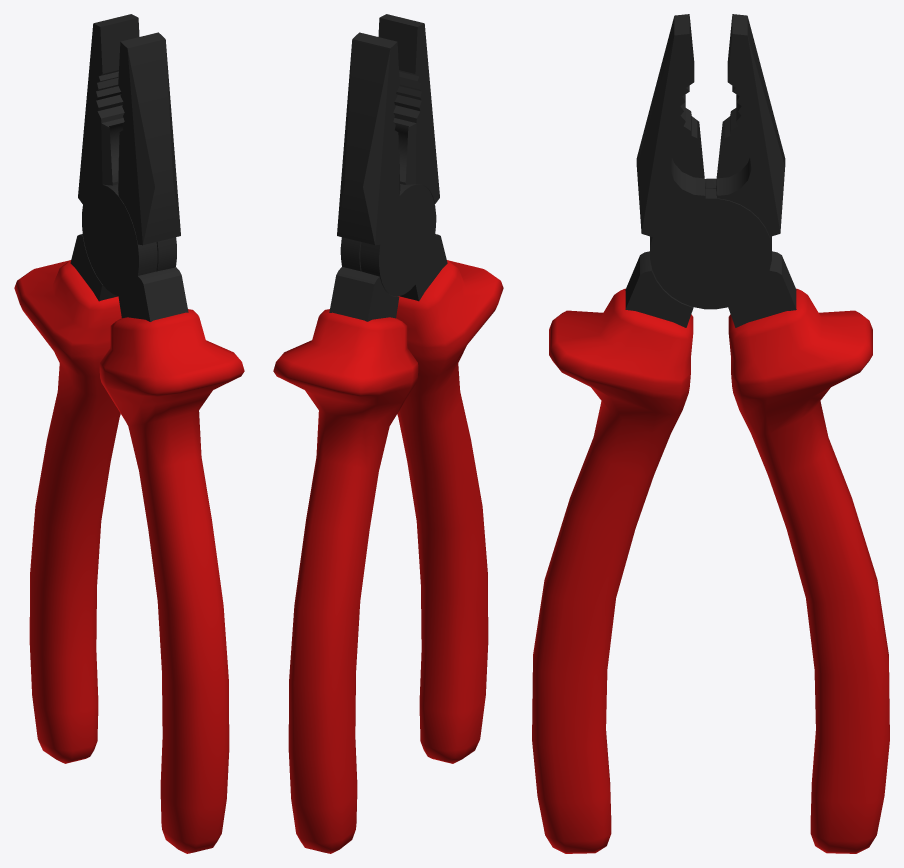
The model's file is Pliers.fbx.
The picture shows the model from 3 angles, left to right: view 1: azimuth 30°, elevation 25°; view 2: azimuth 150°, elevation 25°; view 3: azimuth 270°, elevation 25°; orthographic projection. The views are drawn at different scales.
Parts seen in each view (by area): view 1: Left, Righ; view 2: Left, Righ; view 3: Righ, Left.
Part boxes in pixels (x1=…): Left: x1=78, y1=14, x2=244, y2=853; Righ: x1=14, y1=32, x2=180, y2=763; Left: x1=337, y1=32, x2=503, y2=763; Righ: x1=273, y1=14, x2=439, y2=853; Righ: x1=636, y1=14, x2=889, y2=853; Left: x1=532, y1=14, x2=785, y2=853.
Bounding box in the file's own units: 0.0264 × 0.0759 × 0.193.
